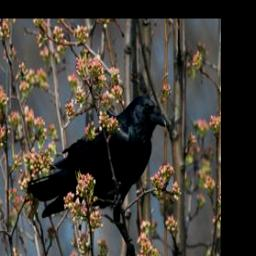Crow: (30, 90, 173, 256)
